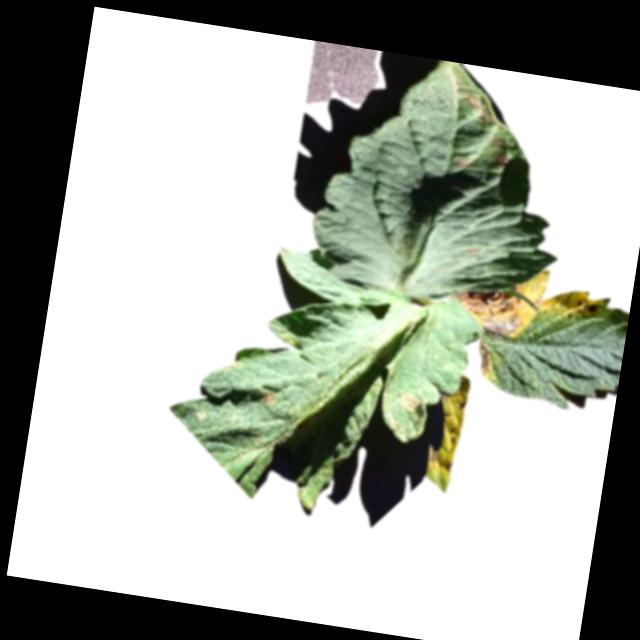Early_blight: (448, 270, 532, 340), (461, 93, 500, 125), (470, 337, 496, 368), (487, 134, 513, 164), (428, 448, 457, 473), (396, 390, 422, 413), (580, 293, 604, 317), (254, 386, 279, 406)
